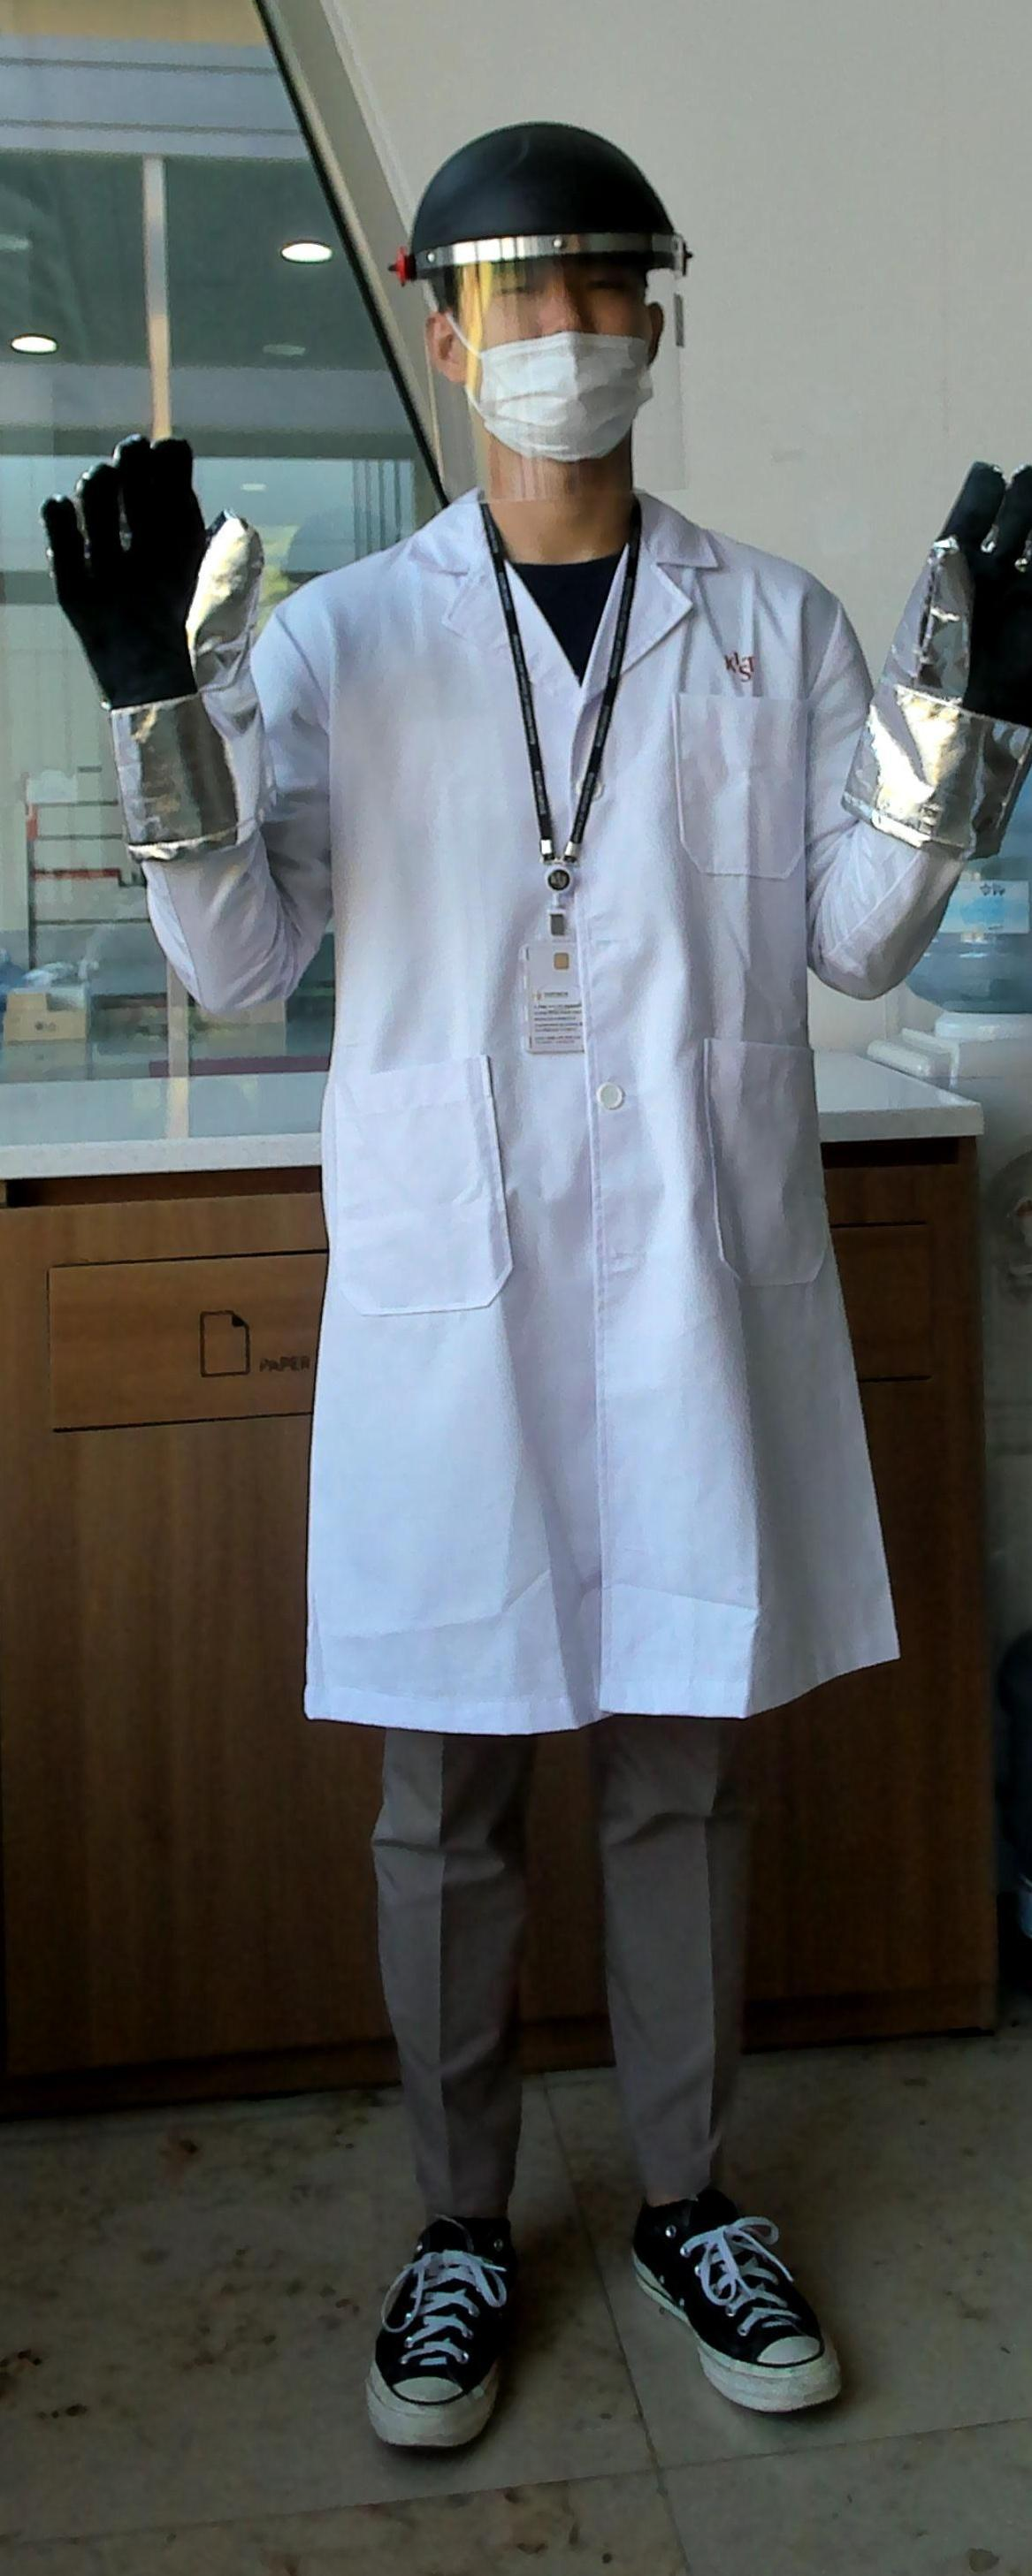lab_coat: (266, 524, 876, 1697)
